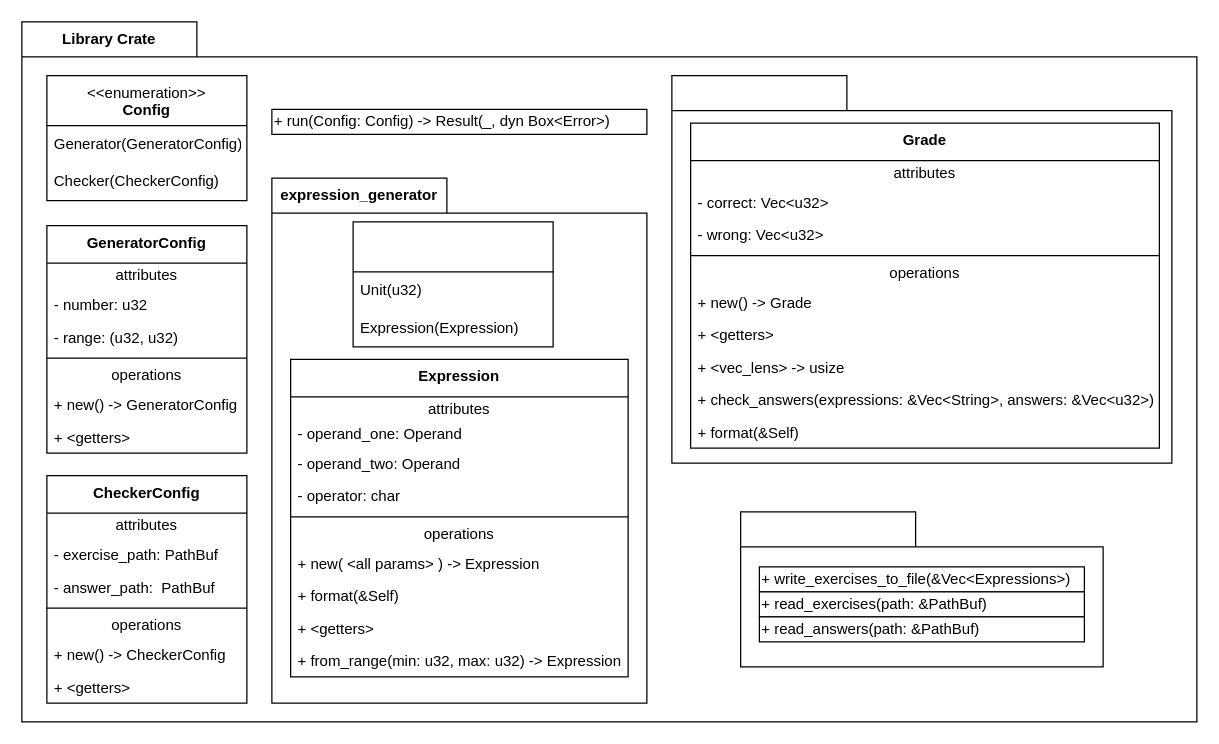
This 1219x744 diagram has some shape labels left out. The shapes that lost their labels are listed below. From the top down, each one's box as (x1, y1, x2, y2) in pixels, then its label:
(352, 221, 553, 347): <<enumeration>> Operand
(671, 74, 1172, 463): answer_checker
(739, 511, 1103, 667): io_helper
